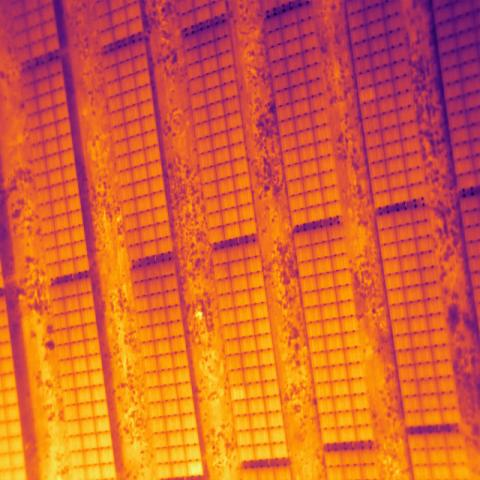fault: (358, 85, 377, 105), (229, 382, 247, 400)
